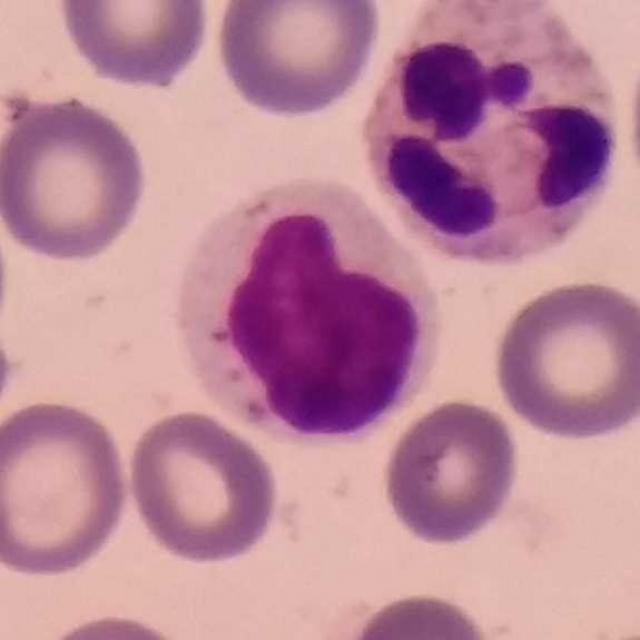Lymphocyte: (181, 166, 452, 443)
Neutrophil: (350, 0, 640, 277)
RBC: (1, 89, 153, 265), (121, 406, 284, 568), (487, 275, 639, 443), (0, 395, 134, 581), (378, 395, 524, 548), (210, 0, 388, 120), (52, 0, 216, 90), (337, 587, 499, 640), (31, 609, 204, 640)
